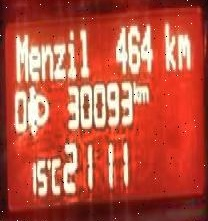0: (12, 86, 26, 132), (79, 81, 92, 129), (92, 81, 105, 127)
1: (105, 137, 114, 189), (86, 139, 93, 189), (122, 138, 128, 188), (31, 159, 36, 194)
2: (62, 139, 75, 194)
3: (66, 81, 78, 131), (121, 79, 132, 125)
4: (140, 20, 153, 72), (115, 22, 127, 73)
5: (36, 155, 48, 194)
6: (127, 20, 140, 73)
9: (106, 79, 119, 127)
X: (163, 18, 176, 70), (14, 31, 27, 82), (177, 31, 192, 70), (78, 25, 89, 77), (52, 40, 65, 81), (67, 25, 77, 77), (40, 42, 53, 81), (28, 42, 40, 83), (50, 154, 60, 195), (138, 82, 148, 102), (131, 80, 140, 102)
